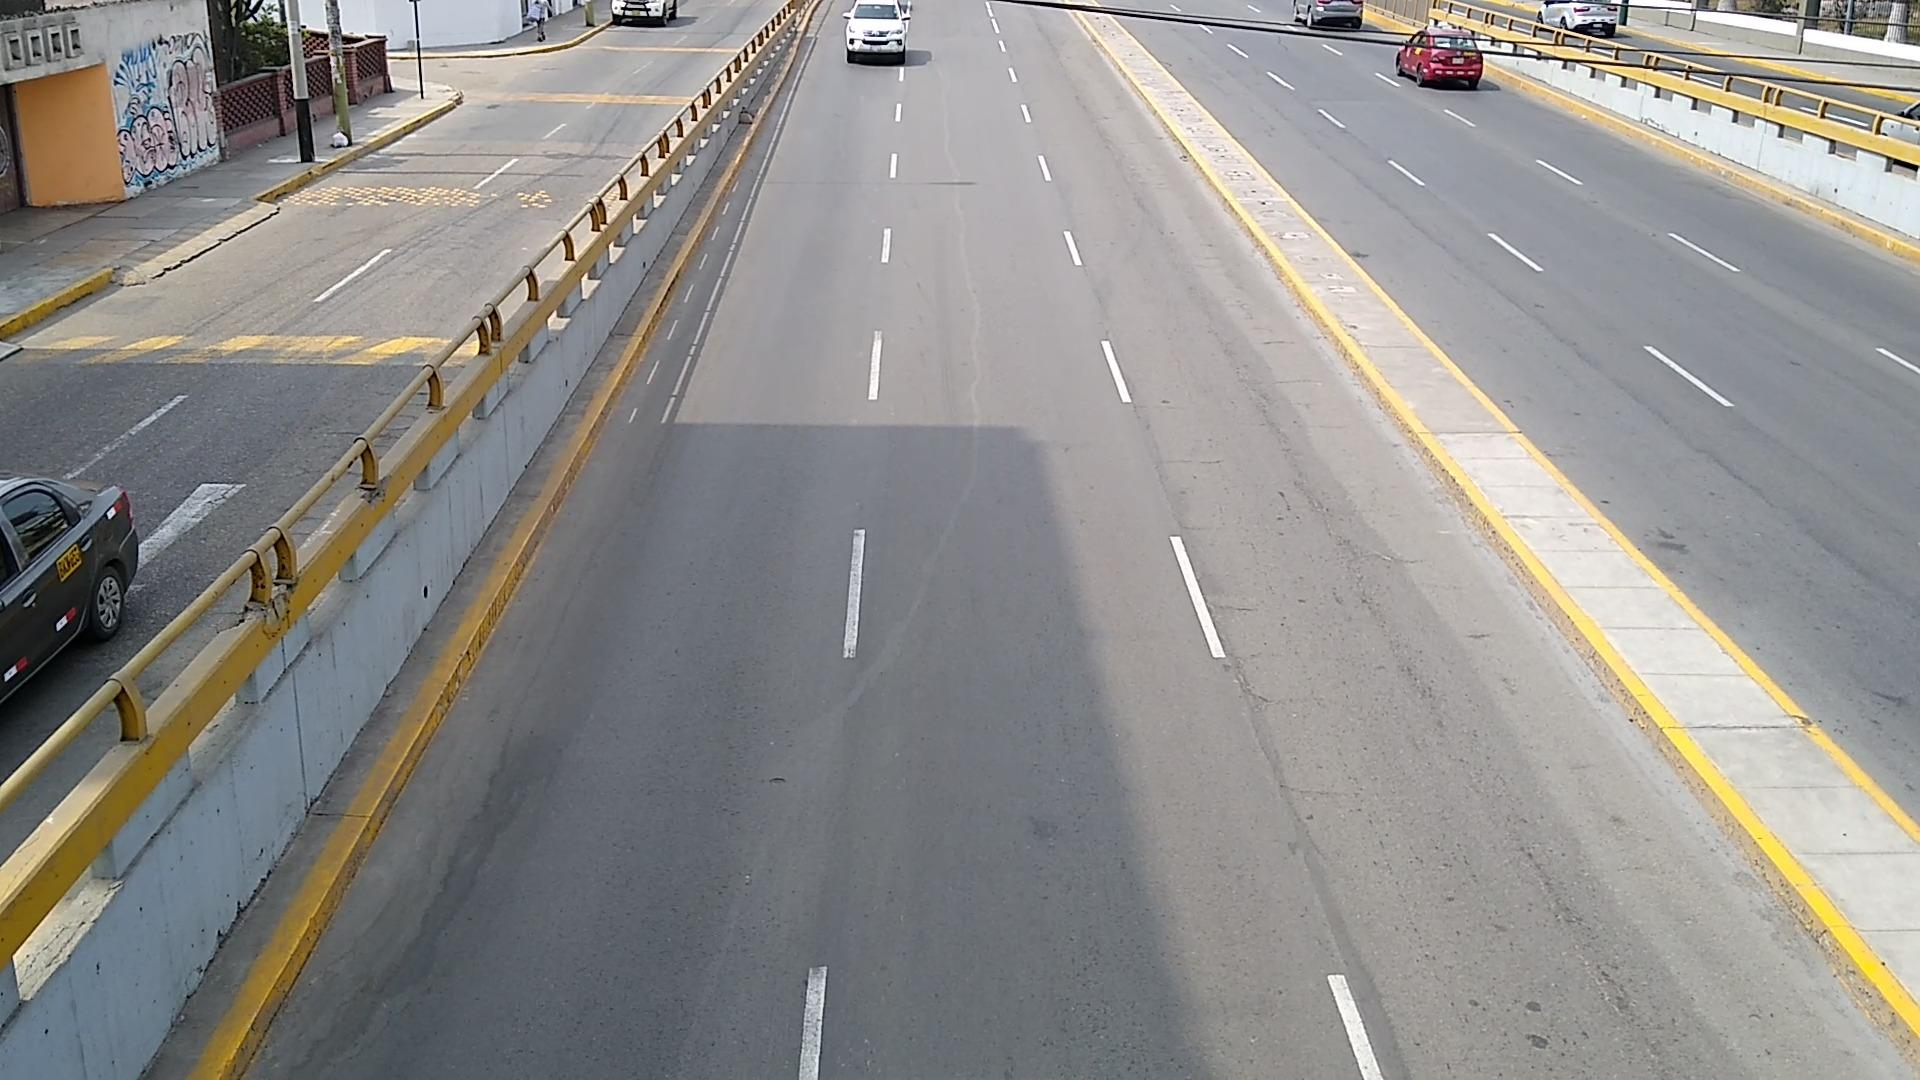car: (0, 475, 138, 699), (1395, 26, 1485, 90), (848, 0, 907, 63)
